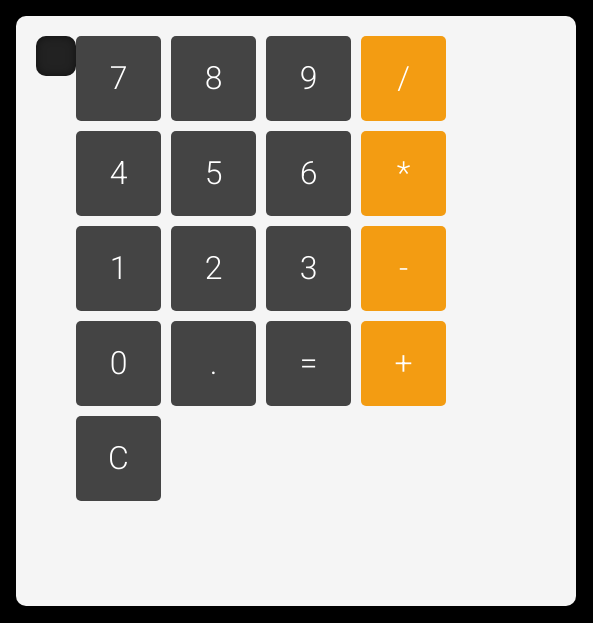
performs division
The width and height of the screenshot is (593, 623).
What coordinates should you click on to do the following:
click the button "8"
I would click on:
 (214, 78)
Its box is top-left (171, 36), bottom-right (256, 121).
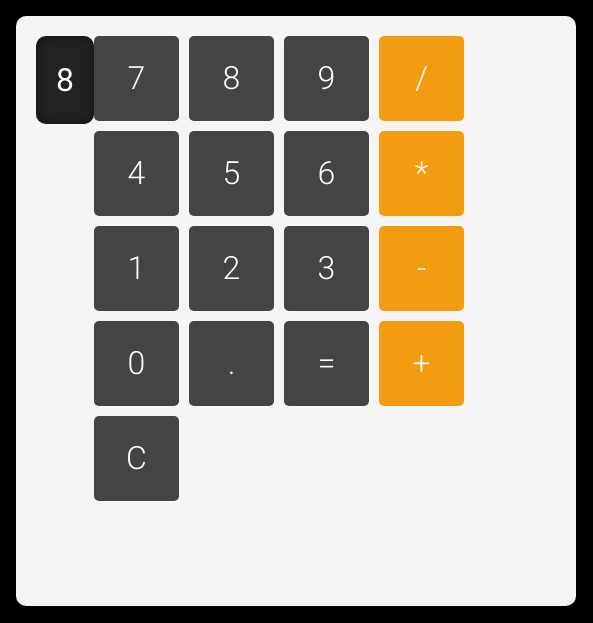
What coordinates should you click on to do the following:
click the button "/"
I would click on:
 (422, 78)
Its box is top-left (379, 36), bottom-right (464, 121).
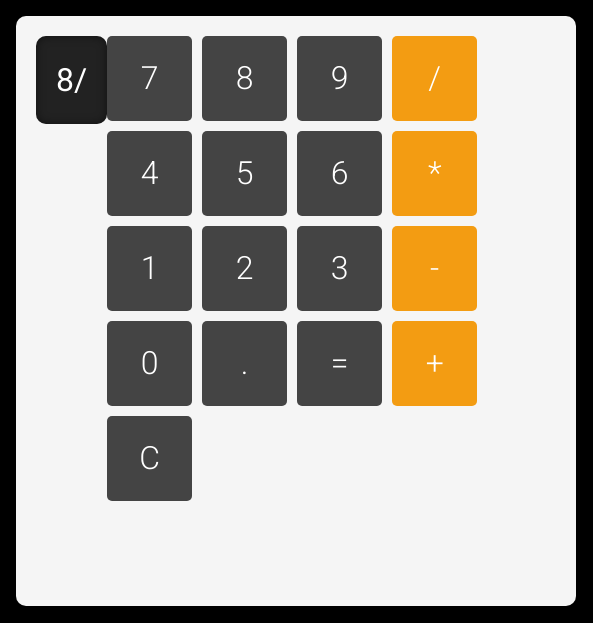
What coordinates should you click on to do the following:
click the button "4"
I would click on:
 (150, 174)
Its box is top-left (107, 131), bottom-right (192, 216).
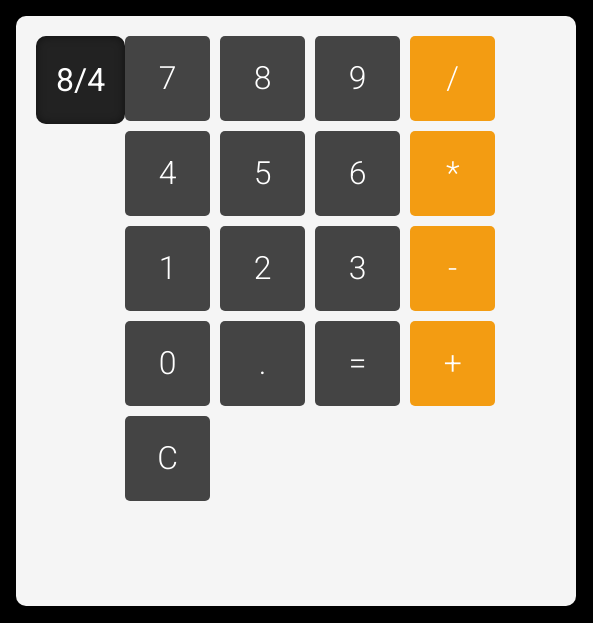
What coordinates should you click on to do the following:
click the button "="
I would click on:
 (358, 364)
Its box is top-left (315, 321), bottom-right (400, 406).
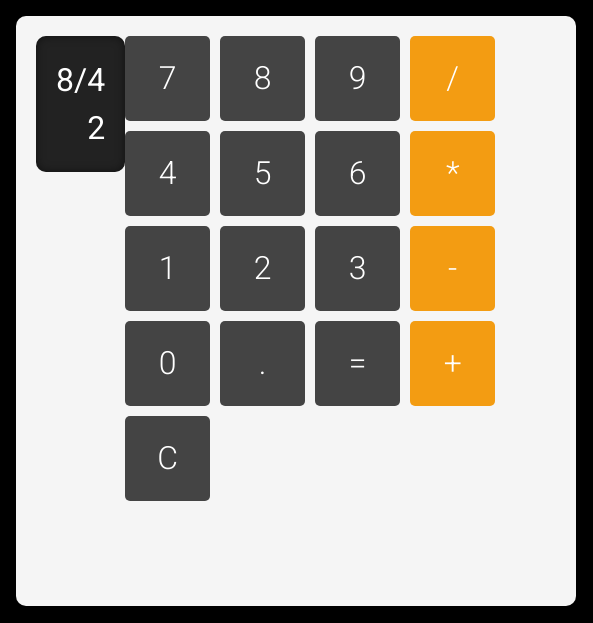
Expected: the text "2" is shown, top-left (87, 109), bottom-right (105, 147)
